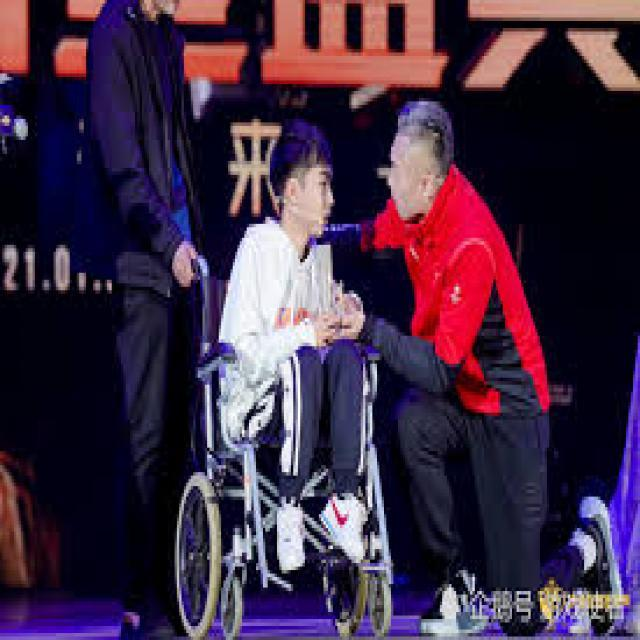wheelchairs: (158, 256, 377, 636)
